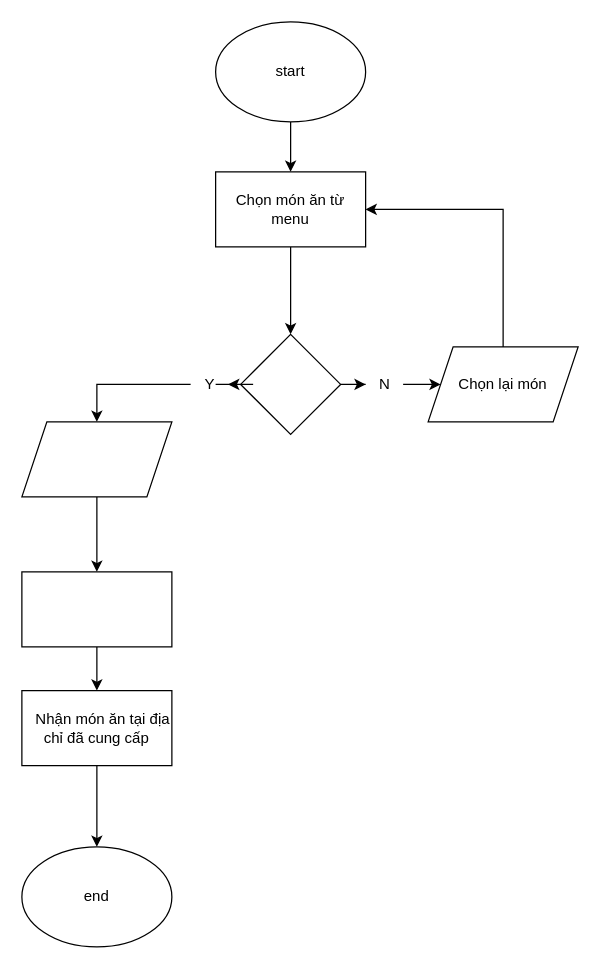
The diagram is 600 pixels wide and 969 high, and some of its shapes have lost their labels. Here are the shapes that lost their labels. From the top down, the box of each, then its label:
(239, 333, 341, 434): Xác nhận chọn món
(21, 421, 172, 497): Cung cấp địa chỉ,thông tin giao hàng
(21, 571, 172, 647): Thanh toán
